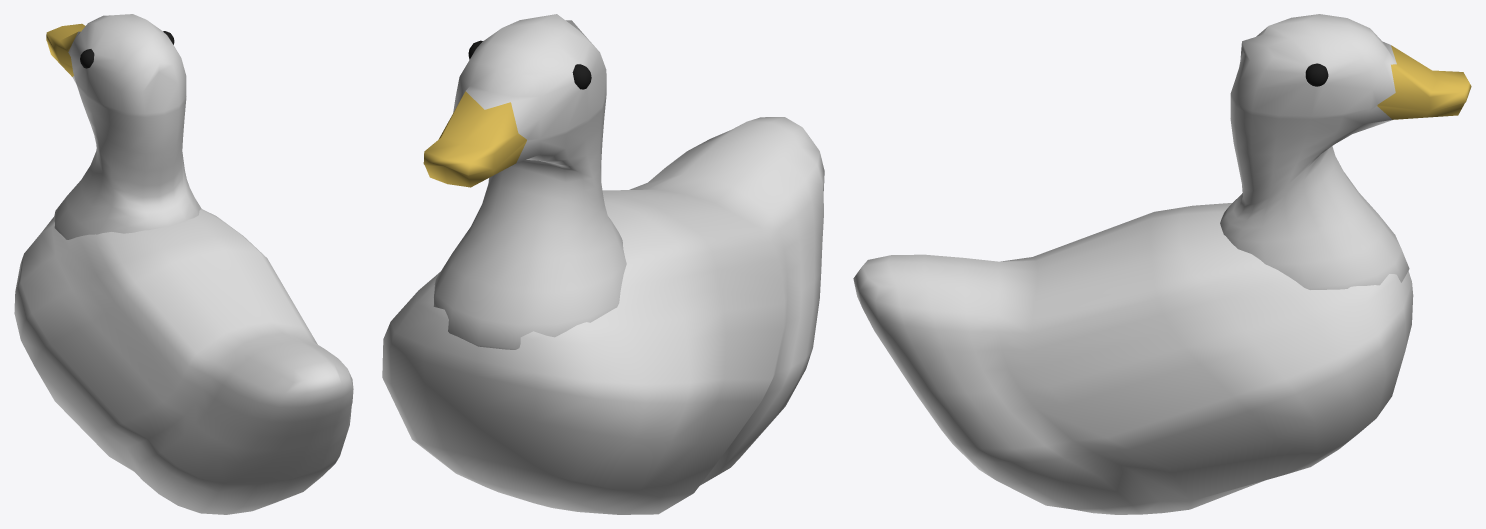
Rendered from Duck_01.fbx.
The picture shows the model from 3 angles, left to right: view 1: azimuth 30°, elevation 25°; view 2: azimuth 150°, elevation 25°; view 3: azimuth 270°, elevation 25°; orthographic projection. The views are drawn at different scales.
Visible parts, largest first — view 1: pCube6; view 2: pCube6; view 3: pCube6.
Part boxes in pixels (x1,y1,x2,y2): pCube6: [14, 14, 353, 514]; pCube6: [382, 14, 824, 514]; pCube6: [853, 14, 1471, 514].
Bounding box in the file's own units: 0.0722 × 0.1233 × 0.144.
